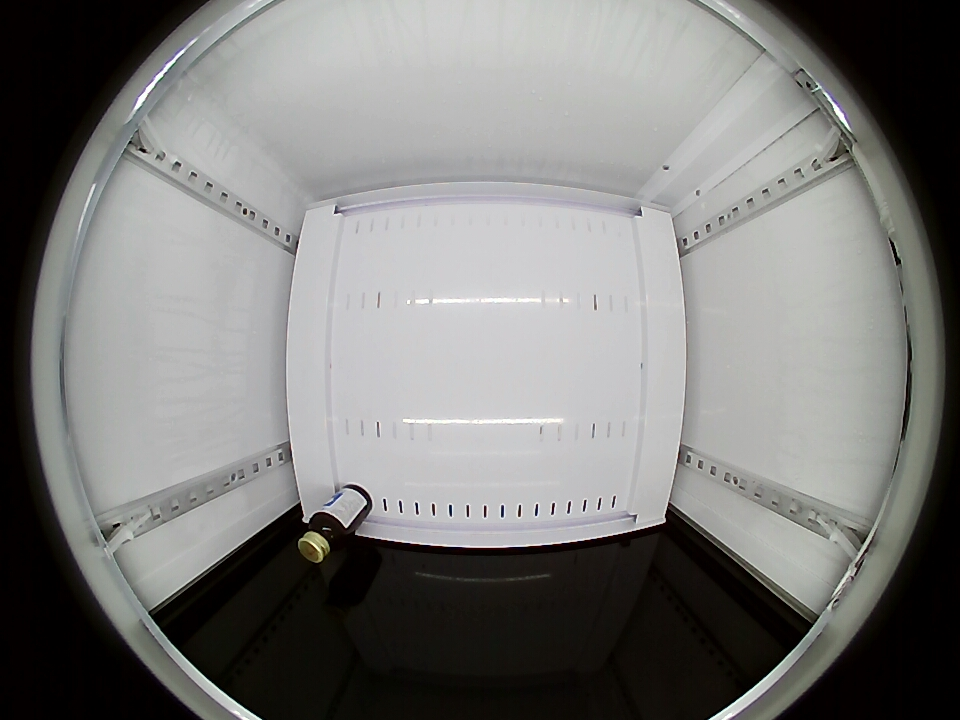libaojian: (297, 513, 348, 562)
